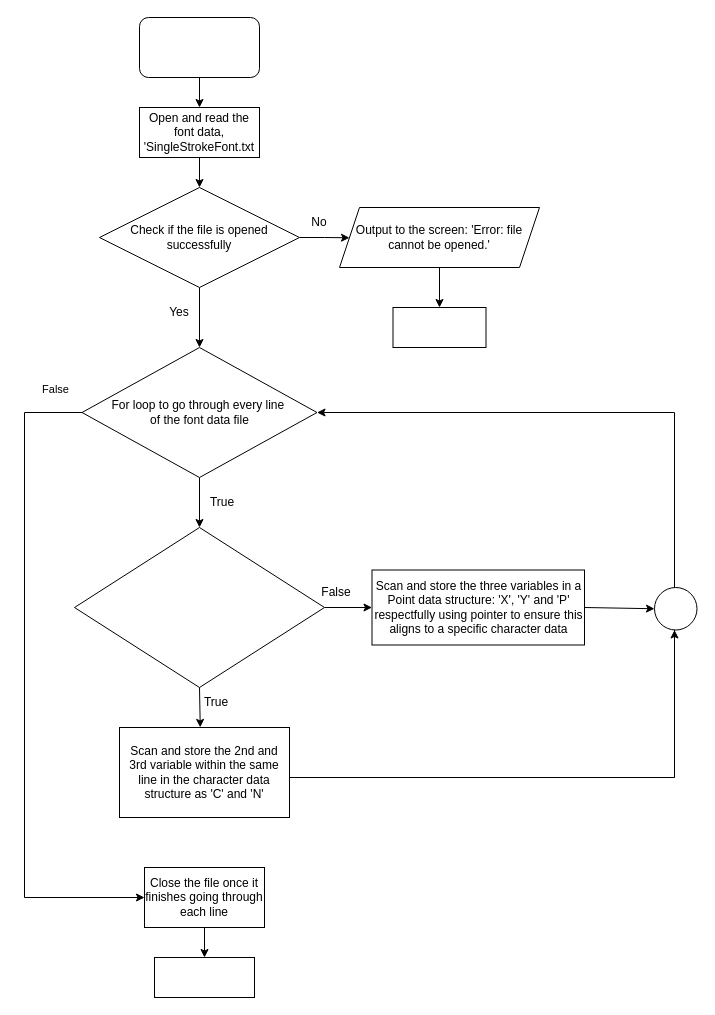
This 715x1015 diagram has some shape labels left out. Each missing label, with the centre of its shape:
break: the point at 439,327
LoadFontData(): the point at 199,47
Return Value: the point at 204,977
The first variable within the line a '999'?: the point at 199,607
